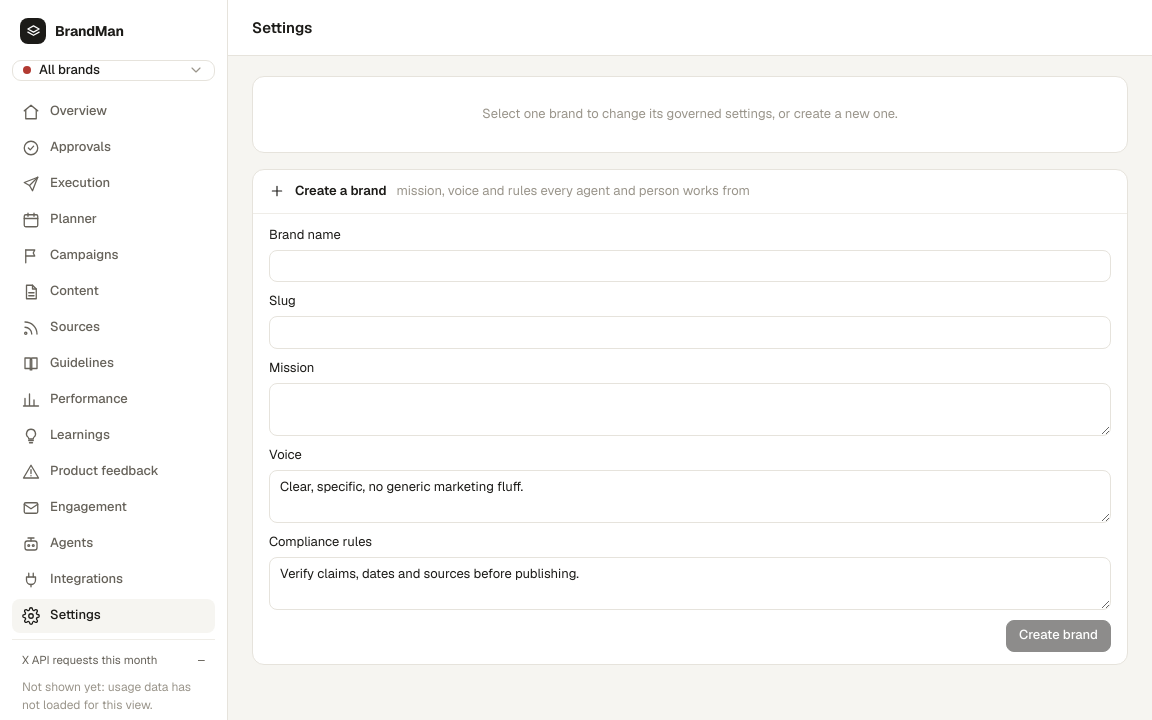
Test: brand creation handoff › keeps failed creation in the form without a success handoff
Type "Acme Widgets" into the field labelled "Brand name" at (690, 266), box [269, 250, 1111, 282]
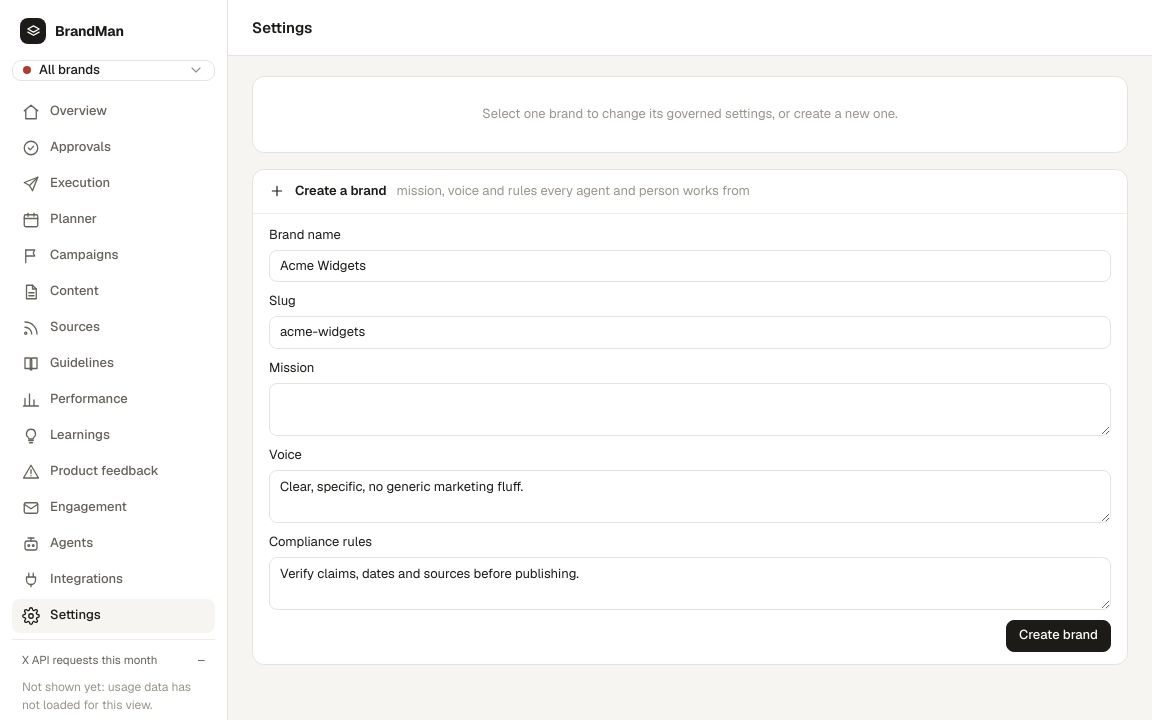
Type "Help people pick widgets." into the text box labelled "Mission" at (690, 409), box [269, 383, 1111, 436]
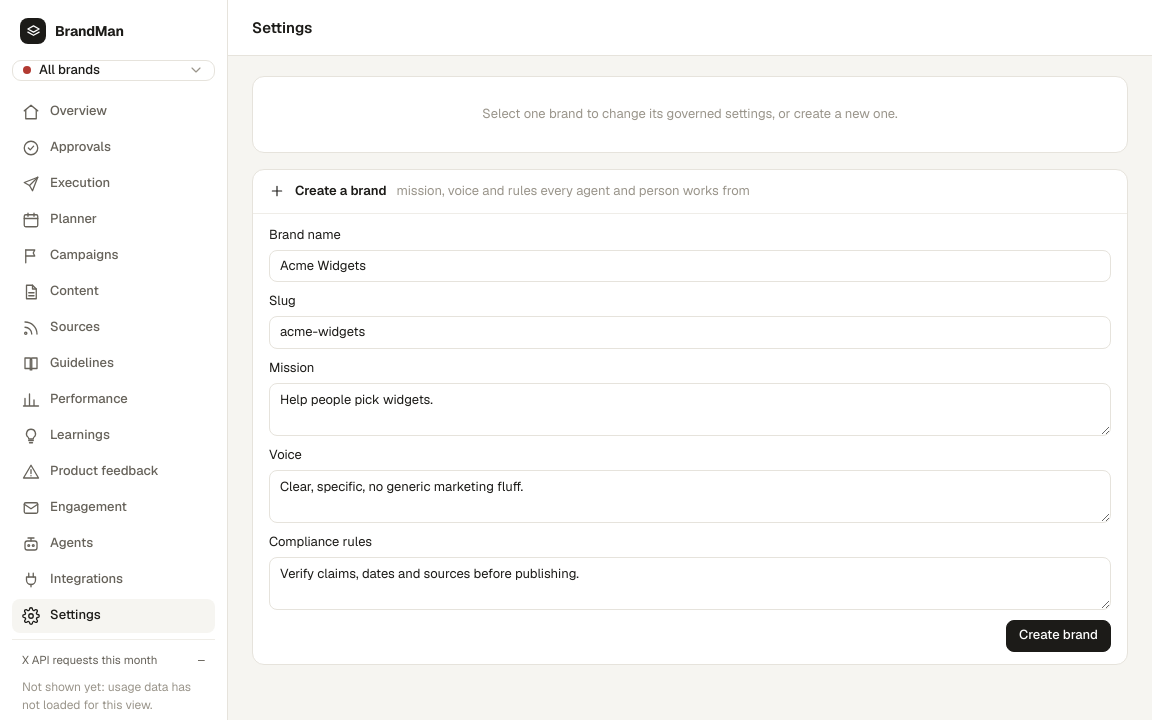
Click the button "Create brand" at (1059, 636), box [1006, 620, 1111, 652]
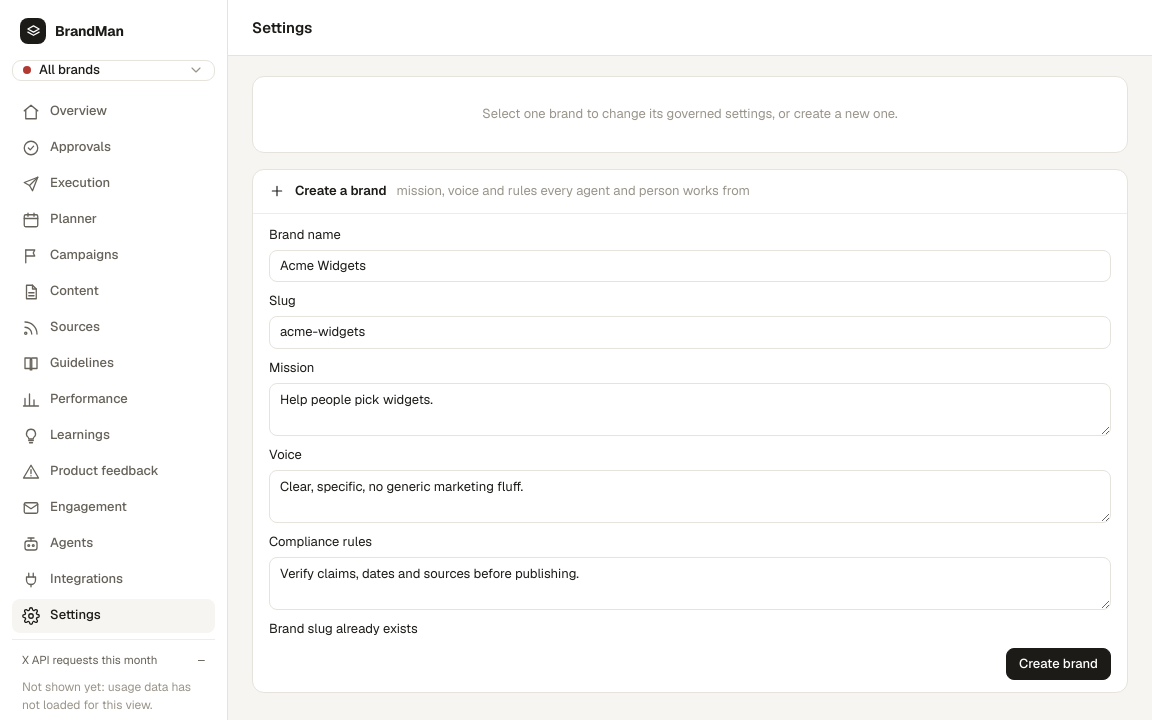
Expected: the label labelled "brand" is empty, [12, 60, 215, 81]
Expected: the message reads "Brand slug already exists", [269, 620, 418, 637]
